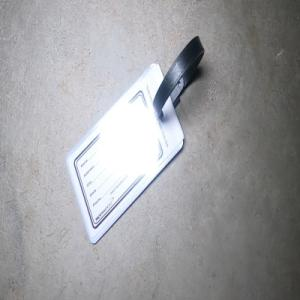LuggageTag: (64, 33, 205, 246)
